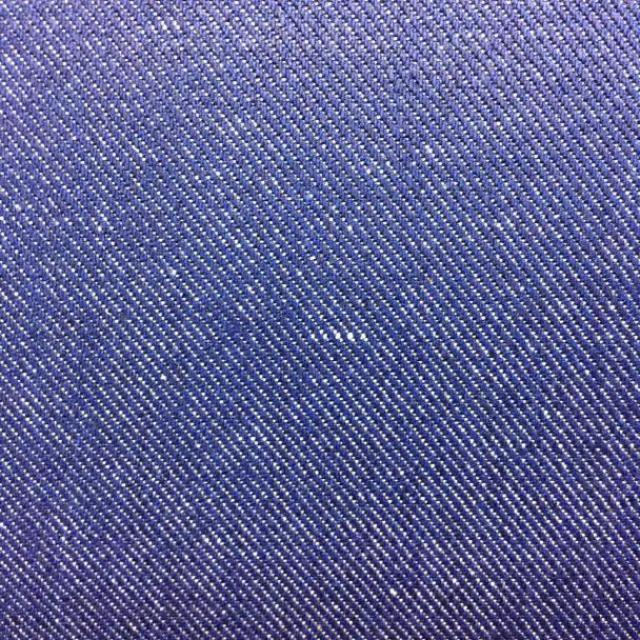Knot: (309, 326, 369, 347)
